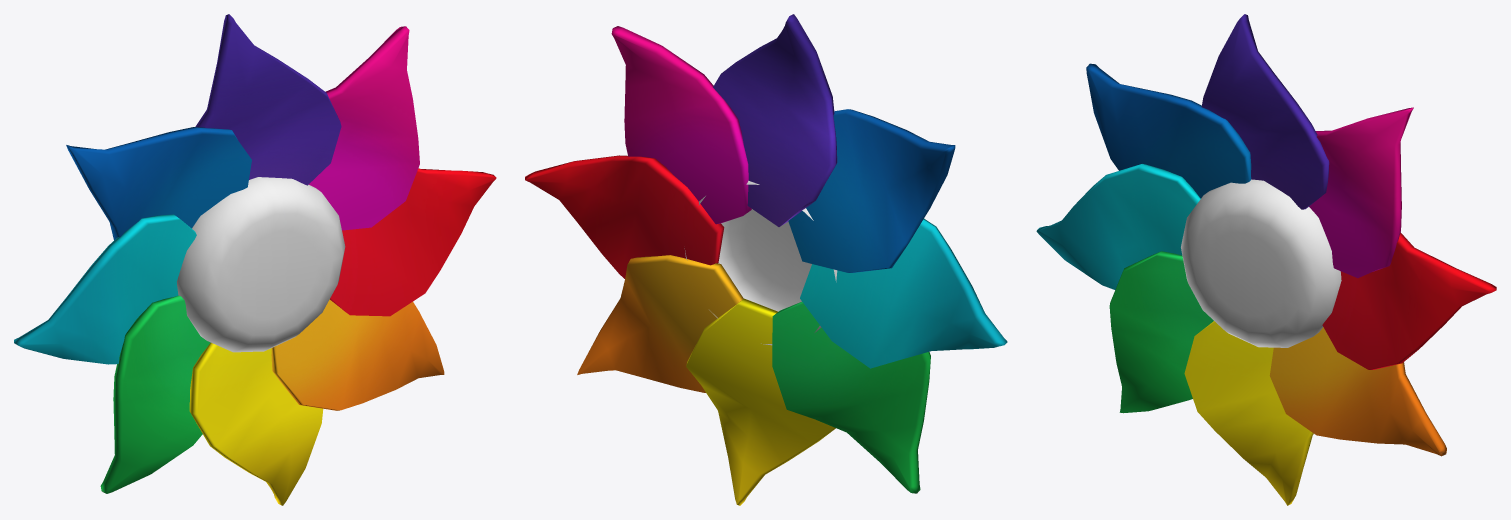
Rendered from ColorFull_Flower.fbx.
3 renders of one model, left to right at view 1: azimuth 30°, elevation 25°; view 2: azimuth 150°, elevation 25°; view 3: azimuth 330°, elevation 25°, orthographic. The views are drawn at different scales.
Parts seen in each view (by area): view 1: ColorFull_Flower; view 2: ColorFull_Flower; view 3: ColorFull_Flower.
Boxes of the visible parts, x1,y1,x2,y2 form: ColorFull_Flower: (14,14,496,505); ColorFull_Flower: (525,14,1007,505); ColorFull_Flower: (1036,14,1496,505).
Size of the model in its own units: 12.13 by 12.13 by 1.37.
